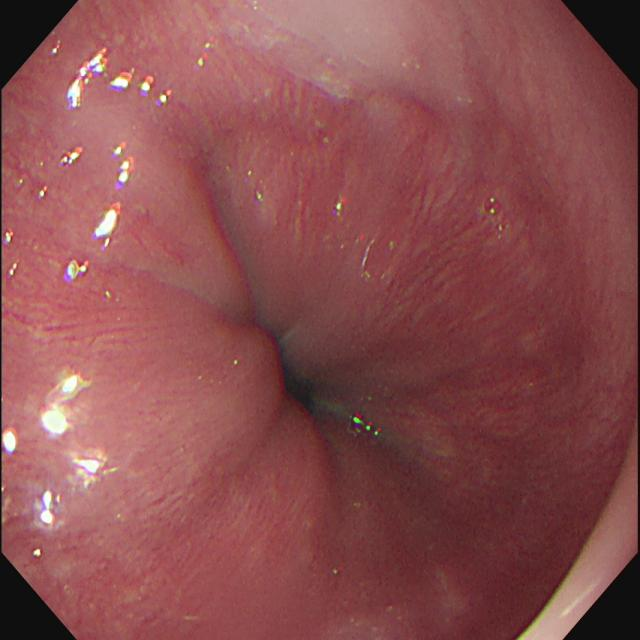I: (183, 229, 407, 516)
J: (229, 2, 477, 122)
T: (483, 197, 511, 235)
U: (67, 47, 175, 113), (42, 370, 91, 440), (70, 451, 112, 488), (109, 135, 136, 189), (32, 488, 65, 532), (92, 203, 122, 248), (349, 414, 383, 441), (59, 144, 86, 171), (64, 256, 91, 283), (2, 424, 22, 456)
